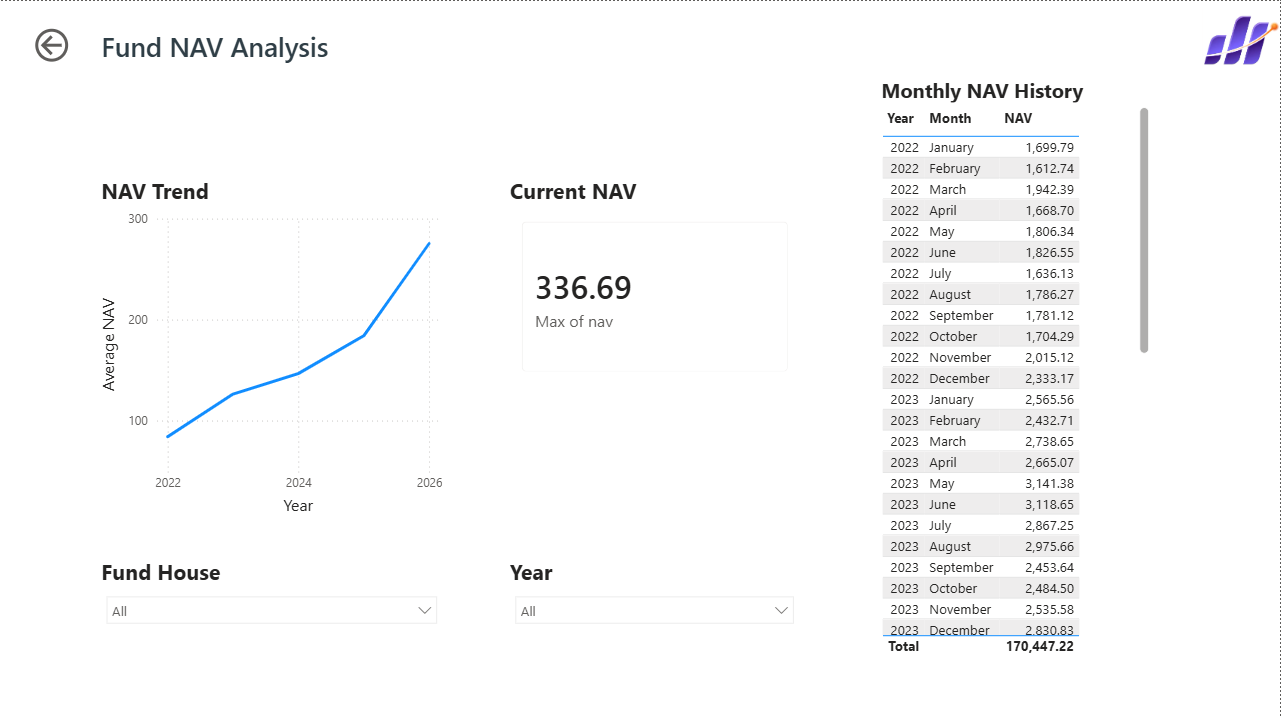

This screenshot's page, from the dashboard's own definition file:
{"tool":"powerbi","page":{"name":"NAV Detail","canvas":[1280,720],"ordinal":4},"visuals":[{"type":"actionButton","box":[30.2,22.9,51.9,43.4],"z":0},{"type":"textbox","box":[96.5,22.9,278.7,51.9],"z":1000},{"type":"lineChart","title":"NAV Trend","fields":{"Category":["NAV History.date.Variation.Date Hierarchy.Year"],"Y":["Avg(NAV History.nav)"]},"box":[96.5,174.9,351.1,343.8],"z":2000},{"type":"cardVisual","title":"Current NAV","fields":{"Data":["Max(NAV History.nav)"]},"box":[505.5,174.9,300.4,213.5],"z":3000},{"type":"tableEx","title":"Monthly NAV History","fields":{"Values":["NAV History.date.Variation.Date Hierarchy.Year","NAV History.date.Variation.Date Hierarchy.Month","Sum(NAV History.nav)"]},"box":[875.9,74.8,277.5,585.1],"z":4000},{"type":"image","box":[1202.8,0,77.2,74.8],"z":5000},{"type":"slicer","title":"Fund House","fields":{"Values":["Fund Master.fund_house"]},"box":[96.5,556.2,351.1,95.3],"z":5001},{"type":"slicer","title":"Year","fields":{"Values":["NAV History.date.Variation.Date Hierarchy.Year"]},"box":[505.5,556.2,299.2,95.3],"z":5002}]}

Visuals, with their boxes in screenshot pixels (x1, y1, x2, y2), scaled from the page's 1280x720 canvas onto the 1281x718 screenshot:
actionButton: (30,23,82,66)
textbox: (97,23,375,75)
"NAV Trend" lineChart: (97,174,448,517)
"Current NAV" cardVisual: (506,174,807,387)
"Monthly NAV History" tableEx: (877,75,1154,658)
image: (1204,0,1280,75)
"Fund House" slicer: (97,555,448,650)
"Year" slicer: (506,555,805,650)
